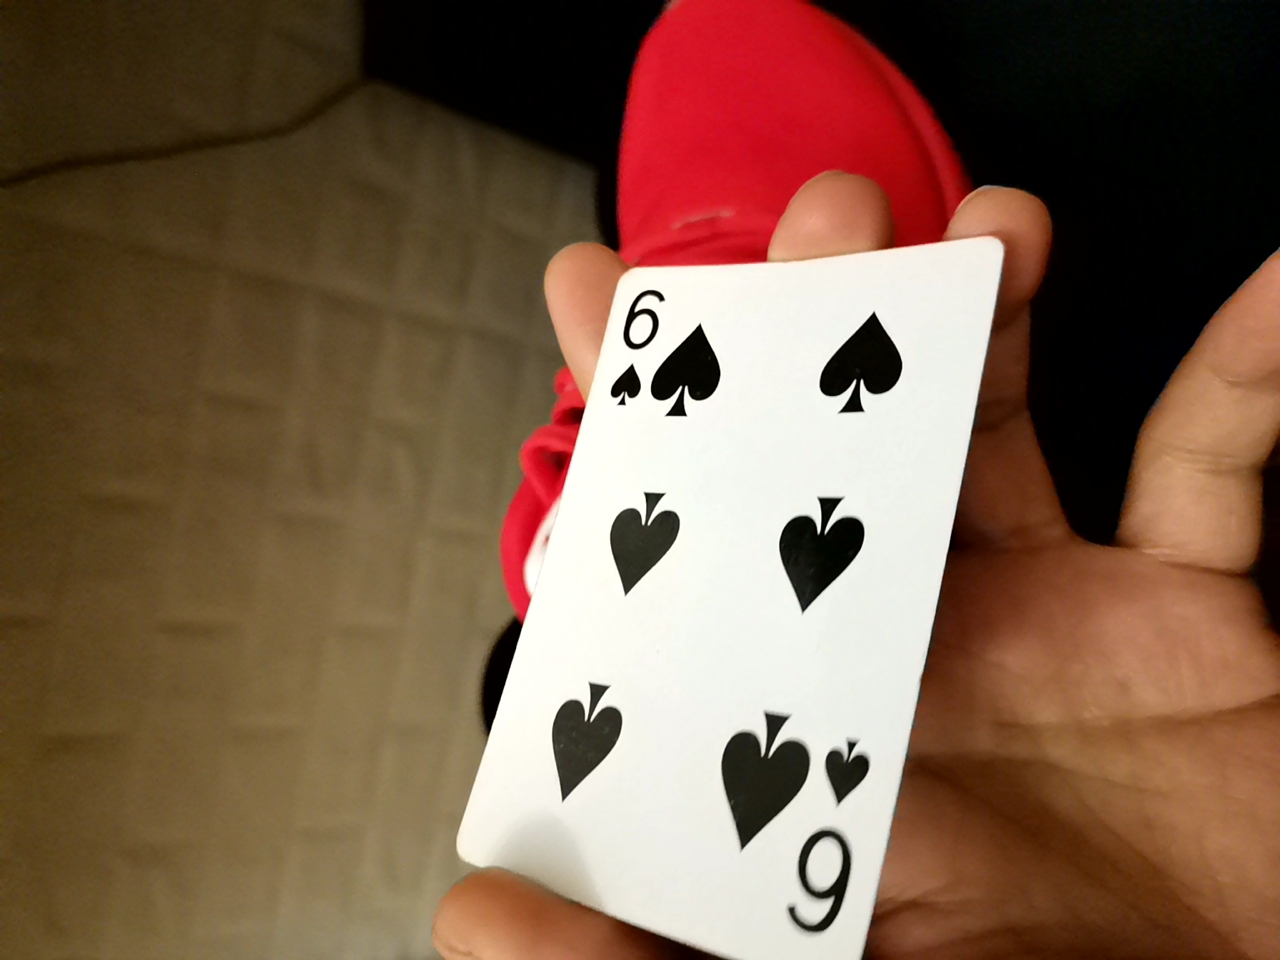ht 6: (463, 234, 1000, 942)
